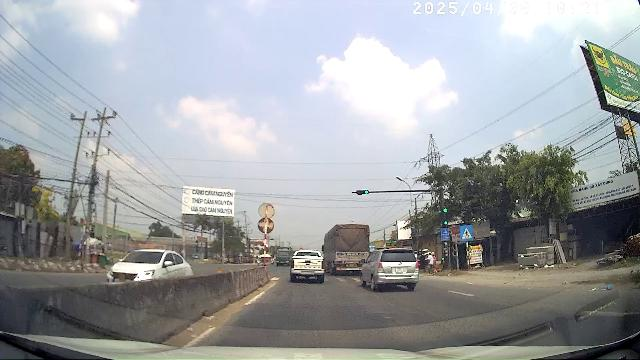423a-duong-nguoi-di-bo-sang-ngang-1: (460, 225, 472, 239)
